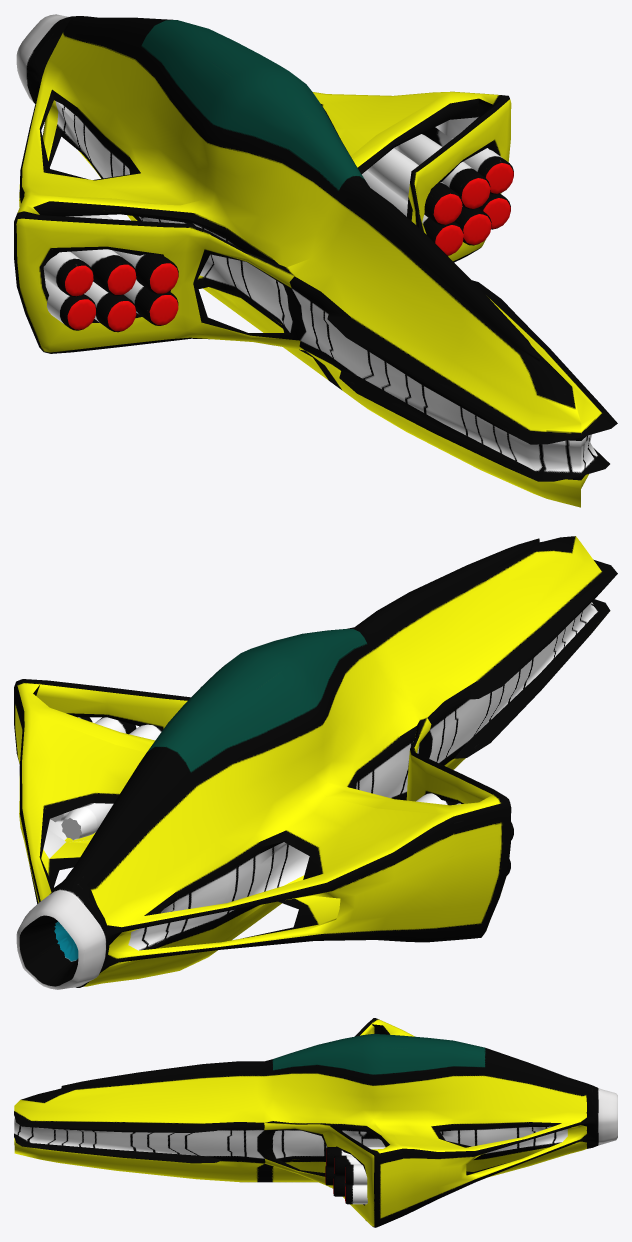
The model's file is shaman.gltf.
The picture shows the model from 3 angles, top to bottom: view 1: azimuth 30°, elevation 25°; view 2: azimuth 150°, elevation 25°; view 3: azimuth 270°, elevation 25°; orthographic projection. The views are drawn at different scales.
Parts seen in each view (by area): view 1: base_bake; view 2: base_bake; view 3: base_bake.
Part boxes in pixels (bbox=[...]): base_bake: bbox=[14, 14, 617, 507]; base_bake: bbox=[14, 536, 617, 989]; base_bake: bbox=[14, 1018, 617, 1227].
Size of the model in its own units: 3.96 by 1.92 by 7.37.
1 material, 1 textured.
